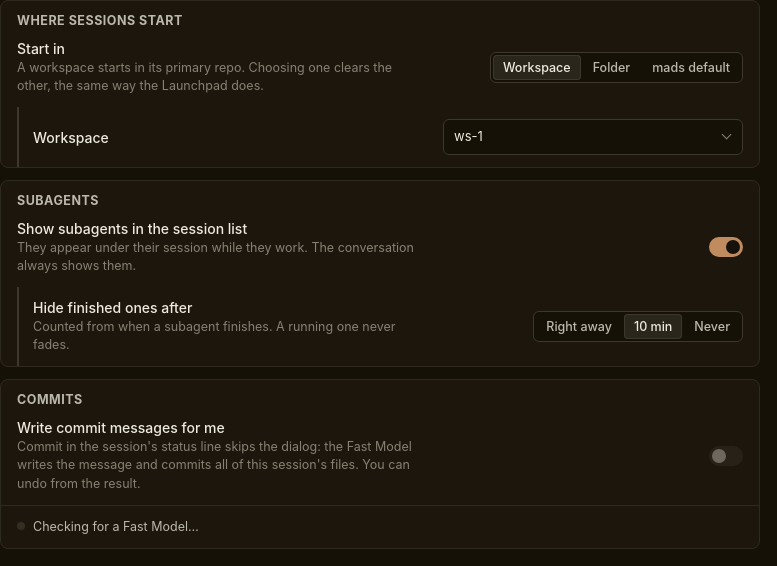
it: SessionsSection › Start in › mads default clears both at once
Click the radio button labelled "mads default": (691, 68) [642,55,740,80]
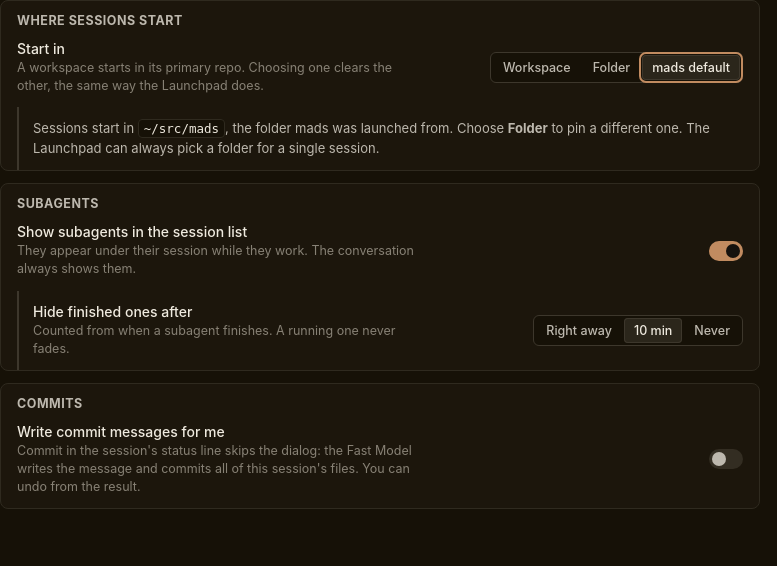
Expected: the element with test id "start-in-fallback" is shown, [33,119,743,158]
